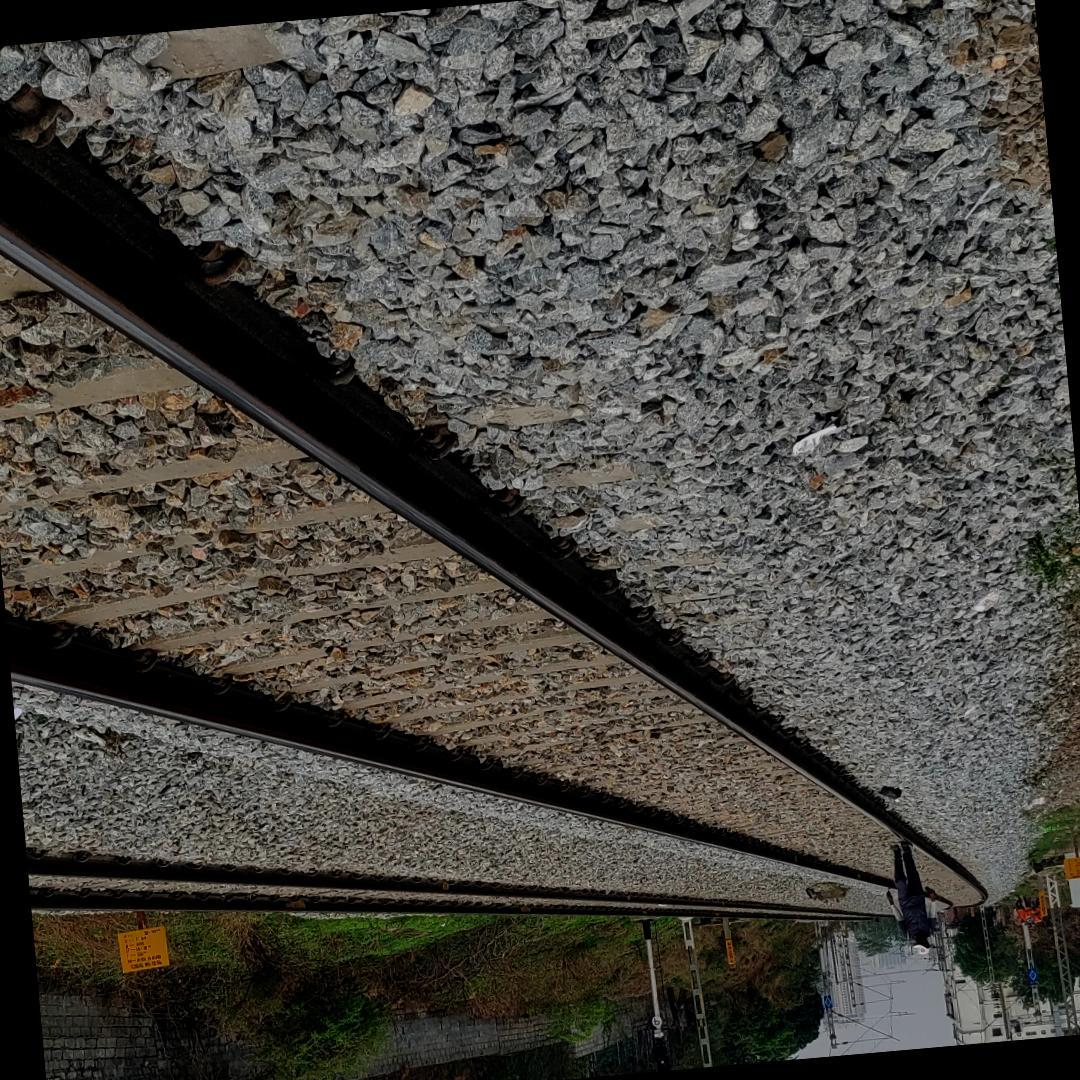standing: (882, 839, 941, 955)
track: (0, 79, 998, 919)
